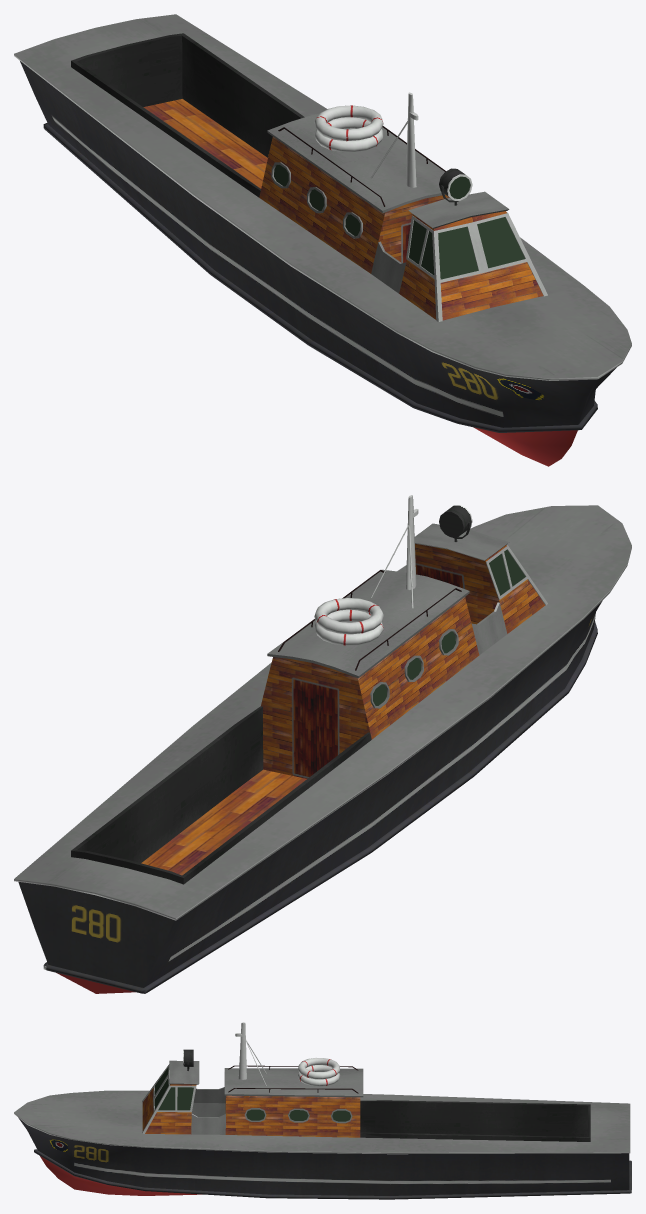
Rendered from Boat_Small1.obj.
The picture shows the model from 3 angles, top to bottom: view 1: azimuth 30°, elevation 25°; view 2: azimuth 150°, elevation 25°; view 3: azimuth 270°, elevation 25°; orthographic projection. The views are drawn at different scales.
Visible parts, largest first — view 1: Model001_3_mat003_1.0_0.0_0.0, Model001_7_mat000_1.0_0.0_0.0; view 2: Model001_3_mat003_1.0_0.0_0.0, Model001_7_mat000_1.0_0.0_0.0; view 3: Model001_3_mat003_1.0_0.0_0.0, Model001_7_mat000_1.0_0.0_0.0, Model001_5_mat002_1.0_0.0_0.0.
Boxes of the visible parts, x1,y1,x2,y2 form: Model001_3_mat003_1.0_0.0_0.0: [14, 14, 631, 466]; Model001_7_mat000_1.0_0.0_0.0: [274, 164, 525, 279]; Model001_3_mat003_1.0_0.0_0.0: [14, 495, 631, 993]; Model001_7_mat000_1.0_0.0_0.0: [373, 549, 525, 705]; Model001_3_mat003_1.0_0.0_0.0: [14, 1022, 631, 1199]; Model001_7_mat000_1.0_0.0_0.0: [154, 1067, 350, 1121]; Model001_5_mat002_1.0_0.0_0.0: [228, 1065, 358, 1093].
Bounding box in the file's own units: 0.0659 × 0.089 × 0.2878.
